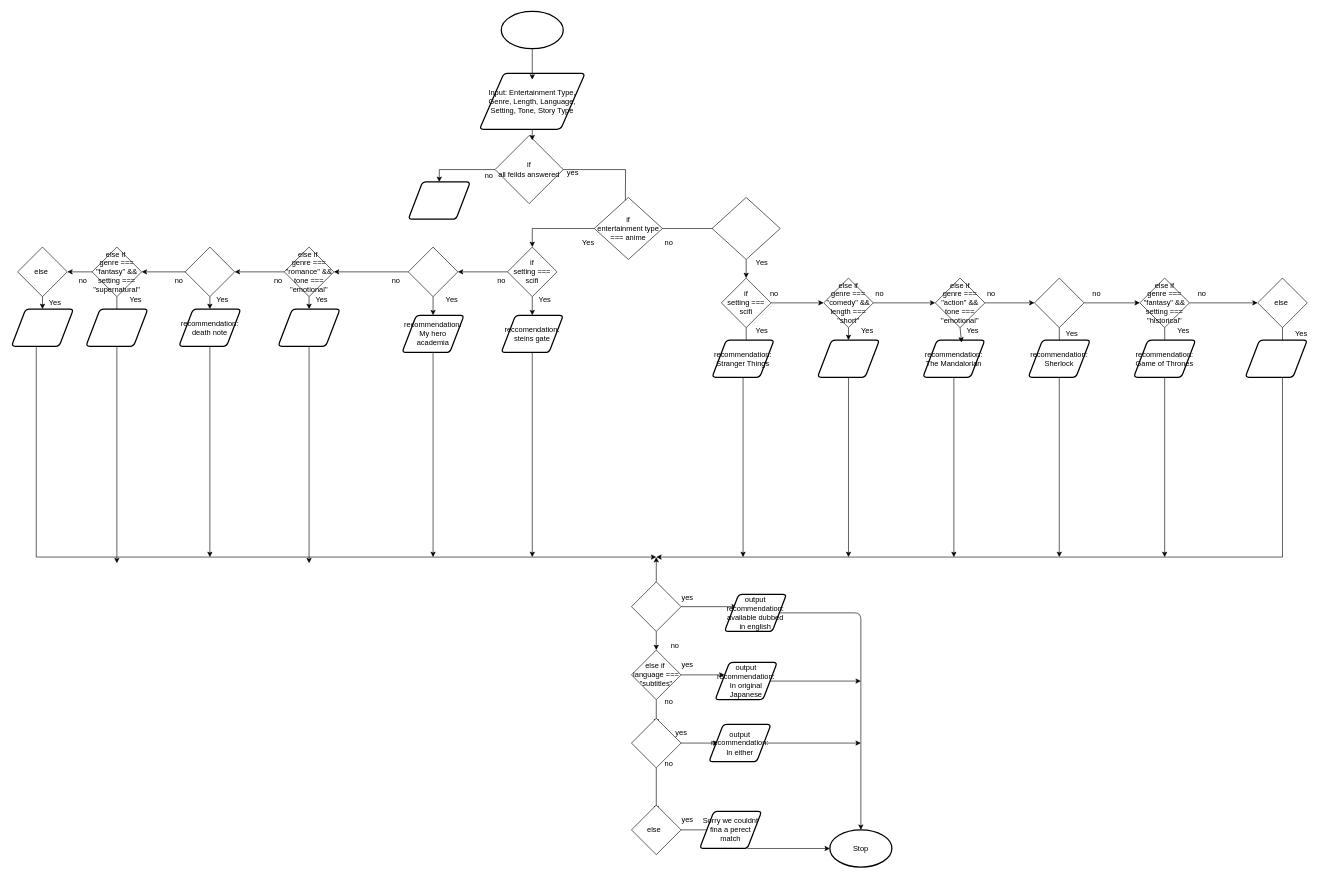
Some shapes in this 1324 by 878 pixel diagram are drawn without their labels. Each missing label, with the box of its shape:
else if entertainment type === tvshow: (711, 197, 780, 259)
else if genre === "action" && tone === "lighthearted": (408, 246, 458, 297)
else if genre === "mystery" && story === "serialized": (1034, 277, 1084, 328)
else if genre === "mystery" && story === "serialized"): (184, 246, 235, 297)
else if language === "either": (631, 718, 681, 768)
if language === "dubbed": (631, 581, 681, 631)
output please answer all questions: (407, 181, 471, 219)
recommendation: Attack on Titan: (11, 308, 74, 347)
recommendation: Brooklyn nin-nine: (817, 339, 880, 378)
recommendation: Jujutsu Kaisen: (85, 308, 148, 347)
recommendation: The Umbrella Academy: (1244, 339, 1308, 378)
recommendation: Your lie in april: (277, 308, 340, 347)
Start: (500, 11, 564, 49)
